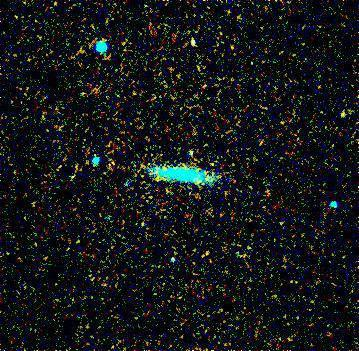star: (197, 148, 227, 178)
